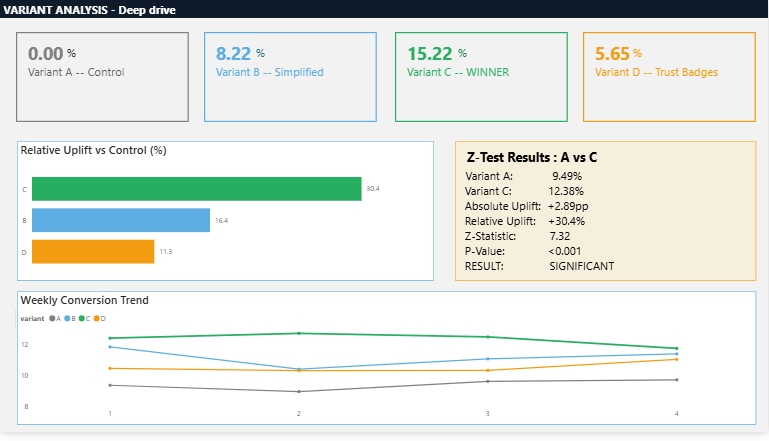

What the dashboard file says about the page in this screenshot:
{"tool":"powerbi","page":{"name":"Variant Analysis","canvas":[1280,720],"ordinal":1},"visuals":[{"type":"shape","box":[0,0,1280,30],"z":0},{"type":"multiRowCard","fields":{"Values":["Measures (2).Relative Uplift %"]},"box":[26.7,53.3,288.3,150],"z":1000},{"type":"multiRowCard","fields":{"Values":["Measures (2).Relative Uplift %"]},"box":[971.7,53.3,288.3,150],"z":2000},{"type":"multiRowCard","fields":{"Values":["Measures (2).Relative Uplift %"]},"box":[658.3,53.3,288.3,150],"z":3000},{"type":"multiRowCard","fields":{"Values":["Measures (2).Relative Uplift %"]},"box":[340,53.3,288.3,150],"z":4000},{"type":"lineChart","title":"Weekly Conversion Trend","fields":{"Y":["Measures (2).Conversion Rate"],"Series":["checkout_ab_test_data.variant"],"Category":["checkout_ab_test_data.Experiment_week"]},"box":[28.3,485,1231.7,223.3],"z":5000},{"type":"textbox","box":[455,236.7,255,51.7],"z":6000},{"type":"clusteredBarChart","title":"Relative Uplift vs Control (%)","fields":{"Category":["checkout_ab_test_data.variant"],"Y":["Measures (2).Relative Uplift %"]},"box":[28.3,235,695,233.3],"z":7000},{"type":"textbox","box":[758.3,235,501.7,233.3],"z":8000},{"type":"textbox","box":[106.7,70,38.3,43.3],"z":9000},{"type":"textbox","box":[421.7,70,46.7,58.3],"z":10000},{"type":"textbox","box":[758.3,70,81.7,43.3],"z":11000},{"type":"textbox","box":[1050,70,48.3,43.3],"z":12000}]}

Visuals, with their boxes in screenshot pixels (x1, y1, x2, y2), scaled from the page's 1280x720 canvas onto the 769x441 screenshot:
shape: 0 0 768 18
multiRowCard - Measures (2).Relative Uplift %: 16 33 189 125
multiRowCard - Measures (2).Relative Uplift %: 584 33 757 125
multiRowCard - Measures (2).Relative Uplift %: 395 33 569 125
multiRowCard - Measures (2).Relative Uplift %: 204 33 377 125
"Weekly Conversion Trend" lineChart: 17 297 757 434
textbox: 273 145 427 177
"Relative Uplift vs Control (%)" clusteredBarChart: 17 144 435 287
textbox: 456 144 757 287
textbox: 64 43 87 69
textbox: 253 43 281 79
textbox: 456 43 505 69
textbox: 631 43 660 69
